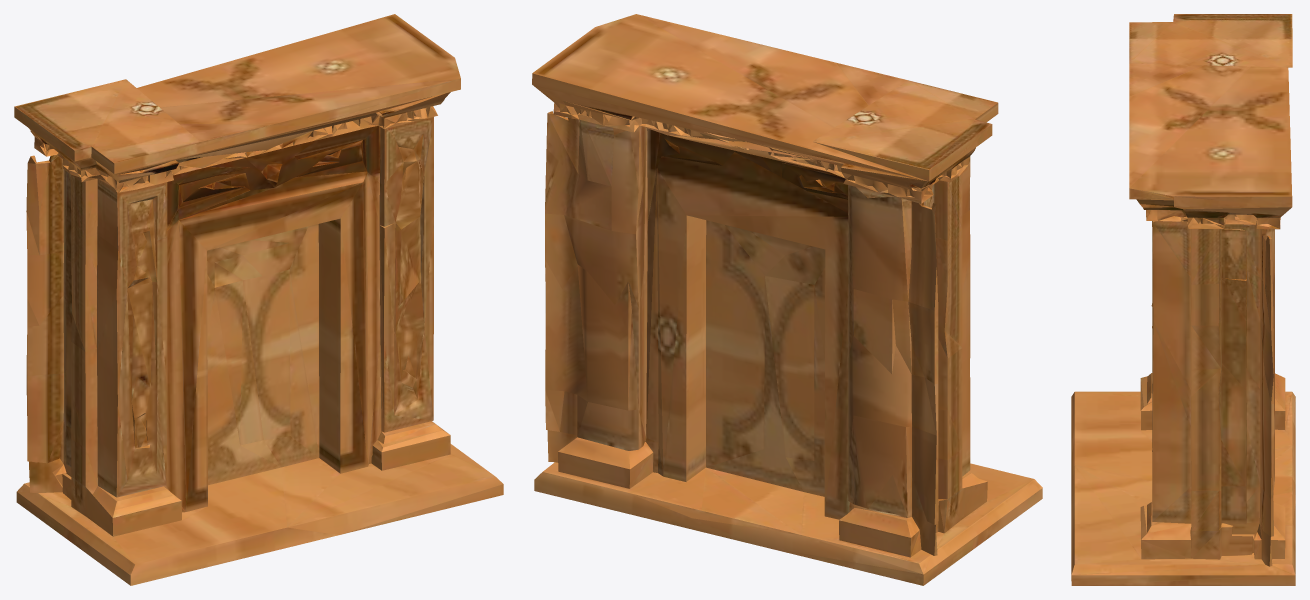
The model's file is door_temple.glb.
3 views of the same model, side by side, from view 1: azimuth 30°, elevation 25°; view 2: azimuth 150°, elevation 25°; view 3: azimuth 270°, elevation 25° (orthographic). The views are drawn at different scales.
Bounding box in the file's own units: 1.9 × 1.9 × 0.9873.
Materials: 1 (1 with a texture image).
